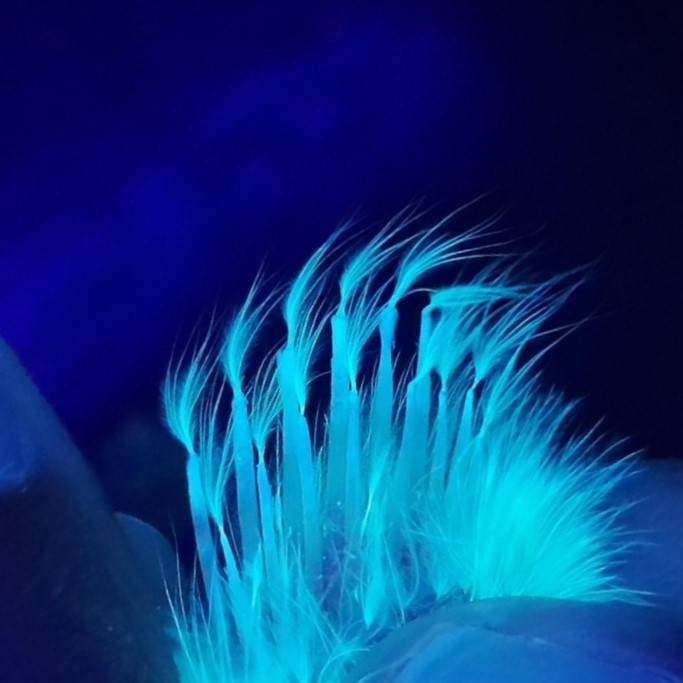female: (154, 288, 515, 645)
